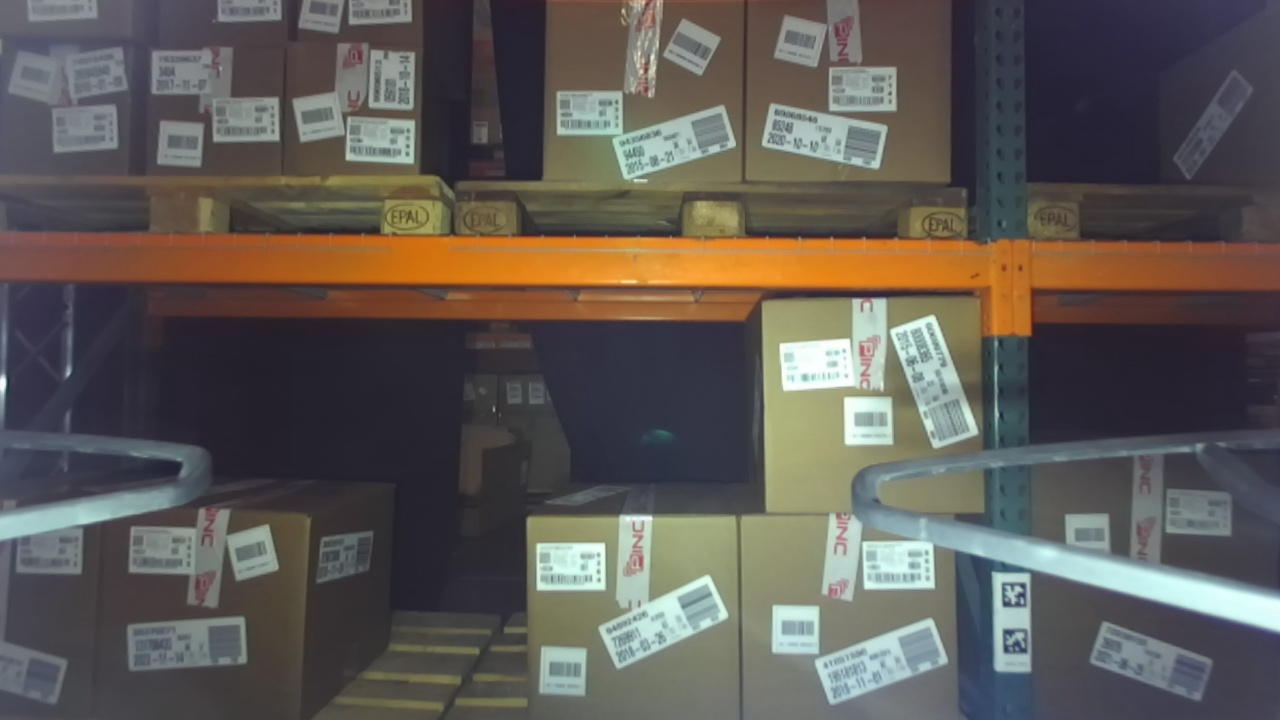box: (1035, 427, 1280, 720), (737, 270, 998, 528), (504, 499, 774, 720), (720, 504, 984, 720), (86, 482, 316, 720), (525, 5, 762, 214), (727, 3, 965, 211), (133, 25, 304, 214), (1, 17, 161, 214), (280, 21, 431, 189)
